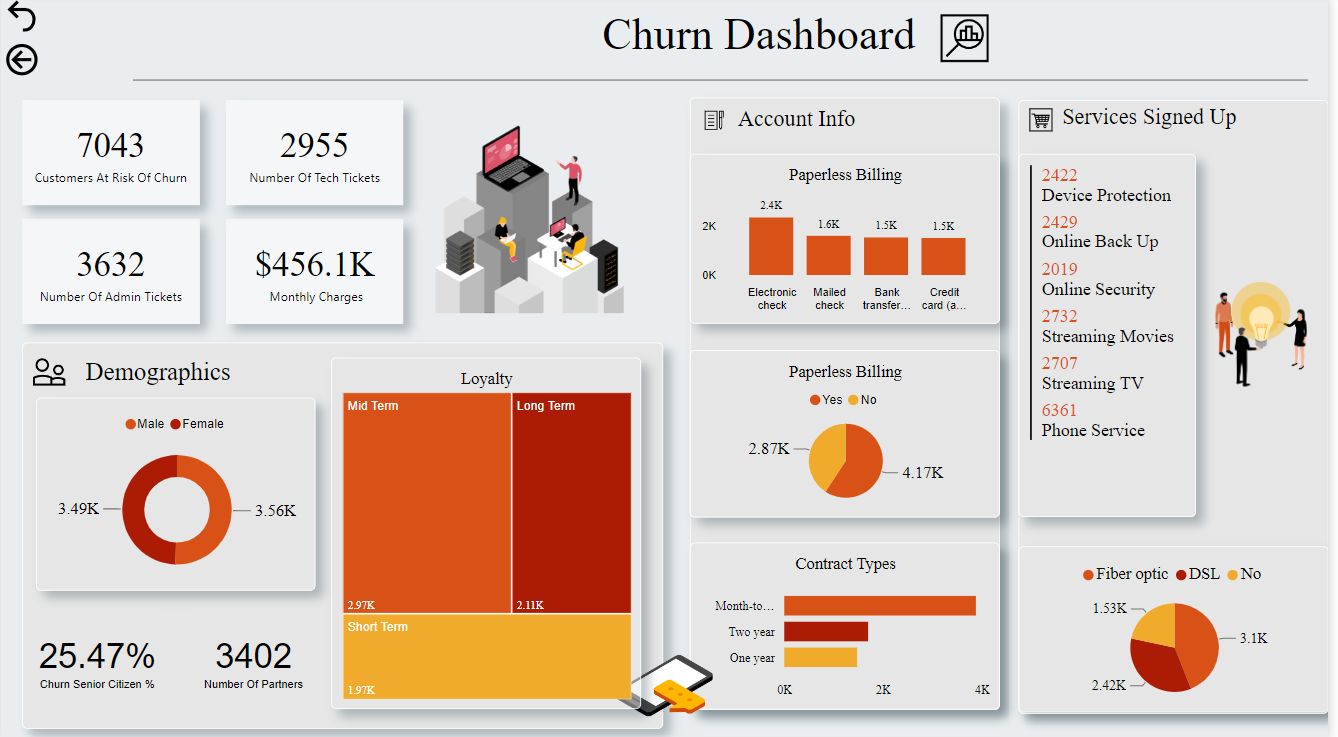

This screenshot's page, from the dashboard's own definition file:
{"tool":"powerbi","page":{"name":"Churn Dashboard","canvas":[1280,720],"ordinal":1},"visuals":[{"type":"card","fields":{"Values":["CountNonNull(01 Churn-Dataset.Churn)"]},"box":[20.8,101.5,171,101.5],"z":0},{"type":"textbox","box":[580,13,350.3,69.5],"z":2000},{"type":"image","box":[896.5,6.9,66.7,68.1],"z":3000},{"type":"basicShape","box":[107,61.2,1173.1,40.3],"z":4000},{"type":"actionButton","box":[0,0,47.3,40.3],"z":5000},{"type":"card","fields":{"Values":["Sum(01 Churn-Dataset.numTechTickets)"]},"box":[216.8,101.5,171,101.5],"z":6000},{"type":"card","fields":{"Values":["Sum(01 Churn-Dataset.numAdminTickets)"]},"box":[20.8,215.4,171,101.5],"z":7000},{"type":"card","fields":{"Values":["Sum(01 Churn-Dataset.MonthlyCharges)"]},"box":[216.8,215.4,171,101.5],"z":8000},{"type":"shape","box":[20.8,335,618.5,372.5],"z":9000},{"type":"image","box":[20.8,335,51.4,57],"z":10000},{"type":"image","box":[401.7,115.4,216.8,201.5],"z":11000},{"type":"textbox","box":[0,350.3,303,37.5],"z":12000},{"type":"donutChart","fields":{"Category":["01 Churn-Dataset.gender"],"Y":["CountNonNull(01 Churn-Dataset.Churn)"]},"box":[33.4,387.8,269.7,186.3],"z":13000},{"type":"card","fields":{"Values":["Measure Table.Churn Senior Citizen %"]},"box":[33.4,592.1,118.1,100.1],"z":14000},{"type":"card","fields":{"Values":["Measure Table.Number Of Partners"]},"box":[184.9,592.1,118.1,100.1],"z":15000},{"type":"shape","box":[981.3,101.5,298.8,590.7],"z":16000},{"type":"shape","box":[664.4,99,298.8,590.7],"z":17000},{"type":"barChart","title":"Contract Types","fields":{"Y":["CountNonNull(01 Churn-Dataset.Churn)"],"Category":["01 Churn-Dataset.Contract"]},"box":[664.4,528.2,298.8,161.2],"z":18000},{"type":"image","box":[581,613,115.4,107],"z":19000},{"type":"image","box":[664.4,101.5,47.3,38.9],"z":20000},{"type":"textbox","box":[617,107,300.2,40.3],"z":21000},{"type":"pieChart","title":"Paperless Billing","fields":{"Category":["01 Churn-Dataset.PaperlessBilling"],"Y":["CountNonNull(01 Churn-Dataset.Churn)"]},"box":[664.4,341.9,298.8,161.2],"z":22000},{"type":"clusteredColumnChart","title":"Paperless Billing","fields":{"Y":["CountNonNull(01 Churn-Dataset.Churn)"],"Category":["01 Churn-Dataset.PaymentMethod"]},"box":[664.4,152.9,298.8,164],"z":23000},{"type":"image","box":[981.3,98.7,43.1,43.1],"z":24000},{"type":"textbox","box":[1024.4,105,255.8,29.2],"z":25000},{"type":"pieChart","title":"Paperless Billing","fields":{"Y":["CountNonNull(01 Churn-Dataset.Churn)"],"Category":["01 Churn-Dataset.InternetService"]},"box":[981.3,532.4,298.8,161.2],"z":26000},{"type":"multiRowCard","title":"Paperless Billing","fields":{"Values":["Measure Table.Device Protection","Measure Table.Online Back Up","Measure Table.Online Security","Measure Table.Streaming Movies","Measure Table.Streaming TV","Measure Table.Phone Service"]},"box":[981.3,152.9,171,350.3],"z":27000},{"type":"image","box":[1152.3,266.9,127.9,120.9],"z":28000},{"type":"treemap","title":"Loyalty","fields":{"Group":["01 Churn-Dataset.Loyalty "],"Values":["CountNonNull(01 Churn-Dataset.PaperlessBilling)"]},"box":[318.3,350.3,298.8,339.2],"z":29000},{"type":"actionButton","box":[0,41.7,100.1,40.3],"z":30000}]}

Visuals, with their boxes in screenshot pixels (x1, y1, x2, y2), scaled from the page's 1280x720 canvas onto the 1338x737 screenshot:
card - CountNonNull(01 Churn-Dataset.Churn): locate(22, 104, 200, 208)
textbox: locate(606, 13, 972, 84)
image: locate(937, 7, 1007, 77)
basicShape: locate(112, 63, 1337, 104)
actionButton: locate(0, 0, 49, 41)
card - Sum(01 Churn-Dataset.numTechTickets): locate(227, 104, 405, 208)
card - Sum(01 Churn-Dataset.numAdminTickets): locate(22, 220, 200, 324)
card - Sum(01 Churn-Dataset.MonthlyCharges): locate(227, 220, 405, 324)
shape: locate(22, 343, 668, 724)
image: locate(22, 343, 75, 401)
image: locate(420, 118, 647, 324)
textbox: locate(0, 359, 317, 397)
donutChart - 01 Churn-Dataset.gender x CountNonNull(01 Churn-Dataset.Churn): locate(35, 397, 317, 588)
card - Measure Table.Churn Senior Citizen %: locate(35, 606, 158, 709)
card - Measure Table.Number Of Partners: locate(193, 606, 317, 709)
shape: locate(1026, 104, 1337, 709)
shape: locate(695, 101, 1007, 706)
"Contract Types" barChart: locate(695, 541, 1007, 706)
image: locate(607, 627, 728, 736)
image: locate(695, 104, 744, 144)
textbox: locate(645, 110, 959, 151)
"Paperless Billing" pieChart: locate(695, 350, 1007, 515)
"Paperless Billing" clusteredColumnChart: locate(695, 157, 1007, 324)
image: locate(1026, 101, 1071, 145)
textbox: locate(1071, 107, 1337, 137)
"Paperless Billing" pieChart: locate(1026, 545, 1337, 710)
"Paperless Billing" multiRowCard: locate(1026, 157, 1205, 515)
image: locate(1205, 273, 1337, 397)
"Loyalty" treemap: locate(333, 359, 645, 706)
actionButton: locate(0, 43, 105, 84)
